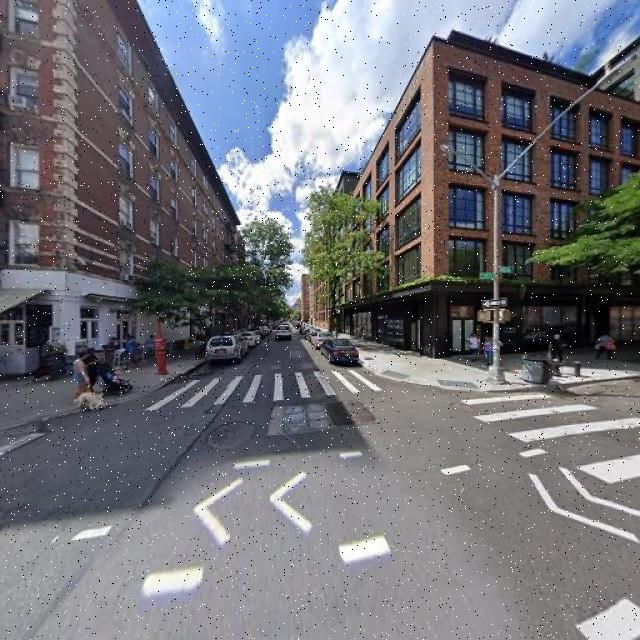Building: (339, 30, 640, 359), (1, 1, 239, 383)
